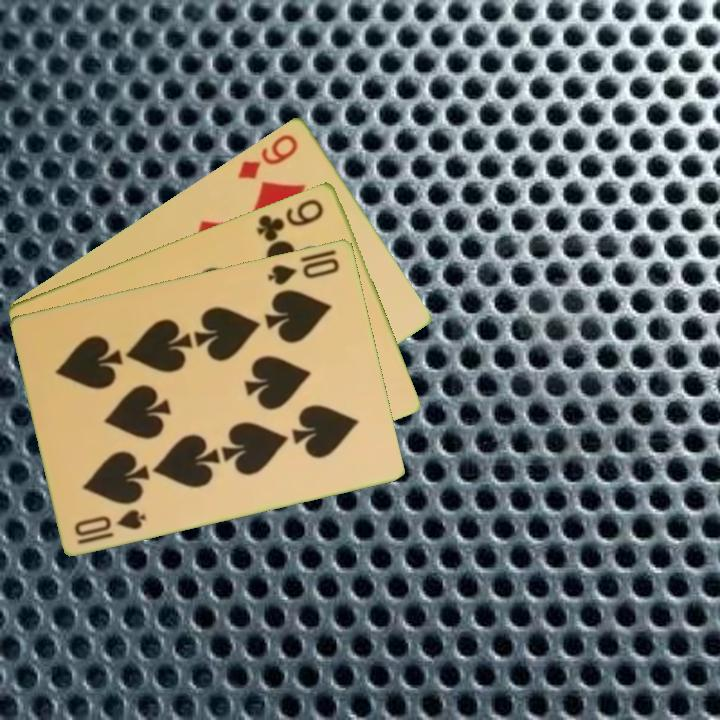10s: (71, 505, 150, 547), (264, 253, 343, 288)
9c: (253, 194, 327, 244)
9d: (234, 130, 301, 182)
